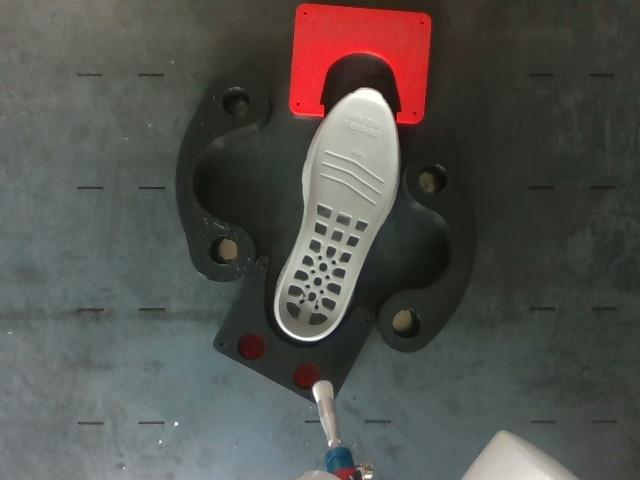shoes: (278, 88, 399, 338)
